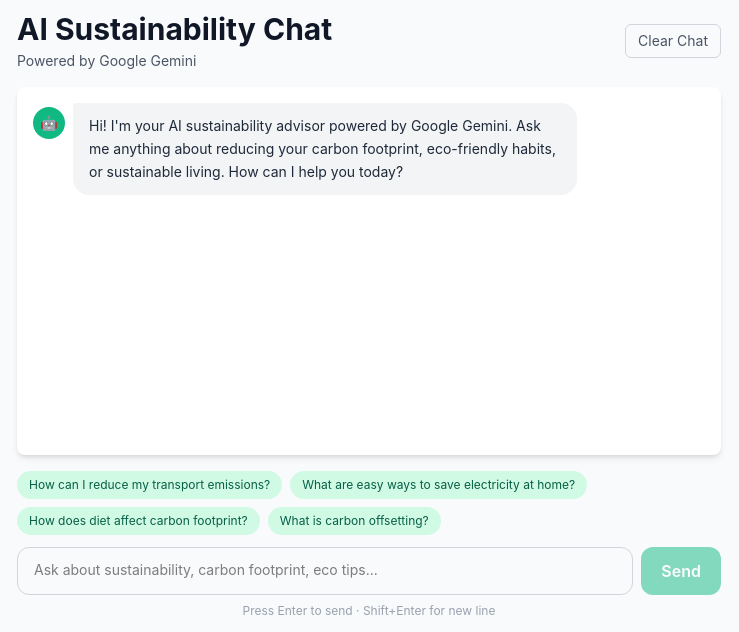
Test: Integration: AI Chat send and receive › clears chat when Clear Chat button is clicked
Click the button "Clear Chat" at (673, 41), box [625, 24, 721, 58]
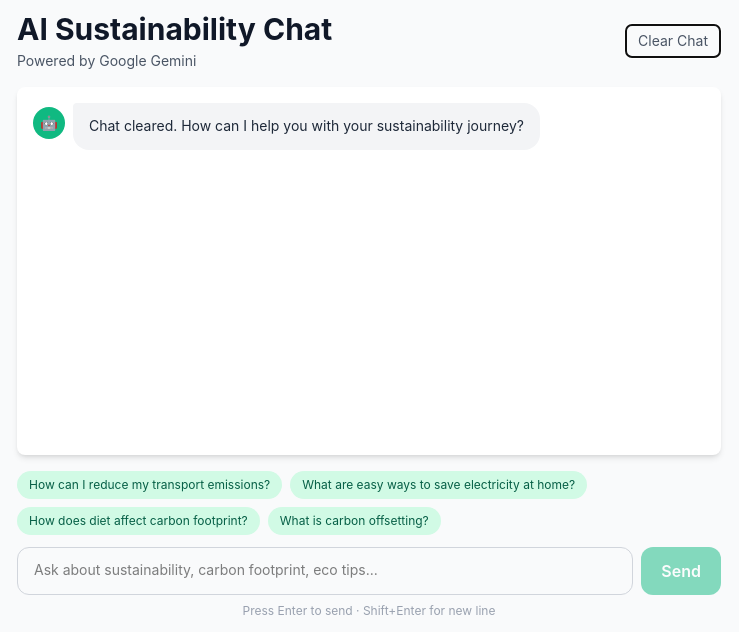
expect the text "Chat cleared" is shown: met, box [89, 117, 524, 134]
